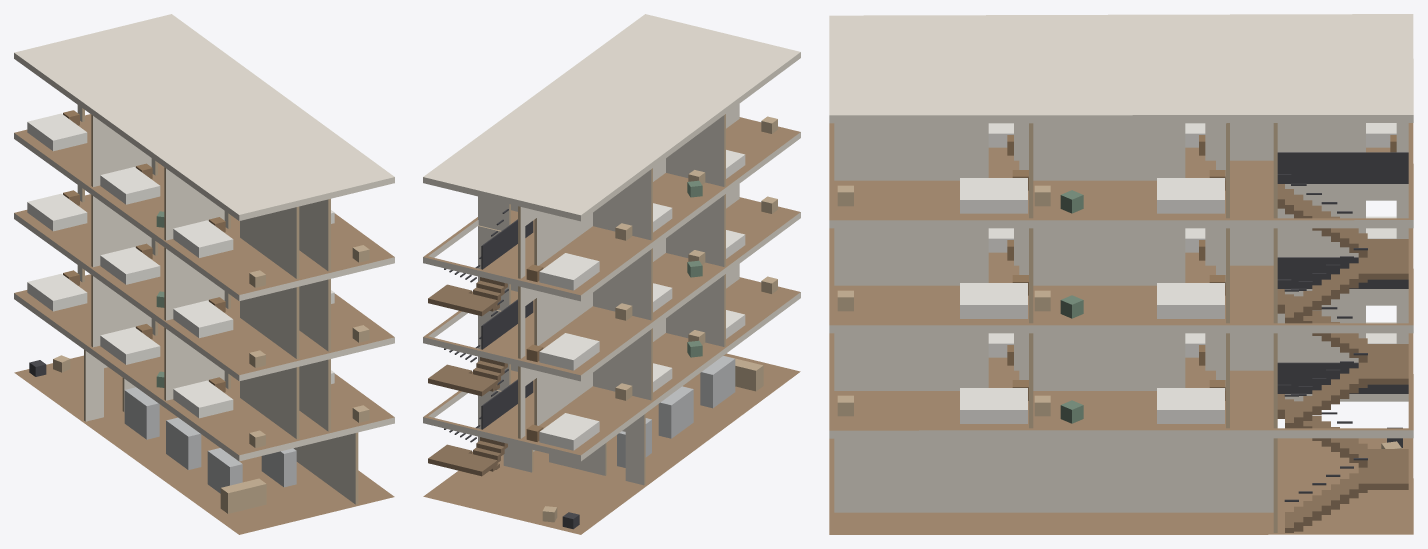
Rendered from interior.glb.
3 views of the same model, side by side, from view 1: azimuth 30°, elevation 25°; view 2: azimuth 150°, elevation 25°; view 3: azimuth 270°, elevation 25° (orthographic). The views are drawn at different scales.
Visible parts, largest first — view 1: slabs, partitions, coarse-s0, coarse-s2, coarse-s3, coarse-s1; view 2: slabs, partitions, stair, coarse-s0, coarse-s1, coarse-s2, coarse-s3; view 3: slabs, partitions, stair, coarse-s3, coarse-s2, coarse-s1.
Boxes of the visible parts, left/top/right/bottom form: slabs: left=14, top=14, right=394, bottom=534; partitions: left=77, top=105, right=358, bottom=504; coarse-s0: left=29, top=355, right=296, bottom=513; coarse-s2: left=27, top=190, right=369, bottom=367; coarse-s3: left=27, top=110, right=369, bottom=287; coarse-s1: left=27, top=270, right=369, bottom=447; slabs: left=423, top=14, right=800, bottom=534; partitions: left=478, top=104, right=739, bottom=485; stair: left=428, top=209, right=533, bottom=476; coarse-s0: left=542, top=356, right=763, bottom=529; coarse-s1: left=526, top=276, right=777, bottom=450; coarse-s2: left=526, top=196, right=777, bottom=370; coarse-s3: left=526, top=116, right=777, bottom=290; slabs: left=829, top=14, right=1413, bottom=534; partitions: left=834, top=123, right=1408, bottom=532; stair: left=1277, top=152, right=1408, bottom=532; coarse-s3: left=837, top=123, right=1396, bottom=213; coarse-s2: left=837, top=216, right=1396, bottom=318; coarse-s1: left=837, top=322, right=1396, bottom=423.
Size of the model in its own units: 7.03 by 13.6 by 17.14.
